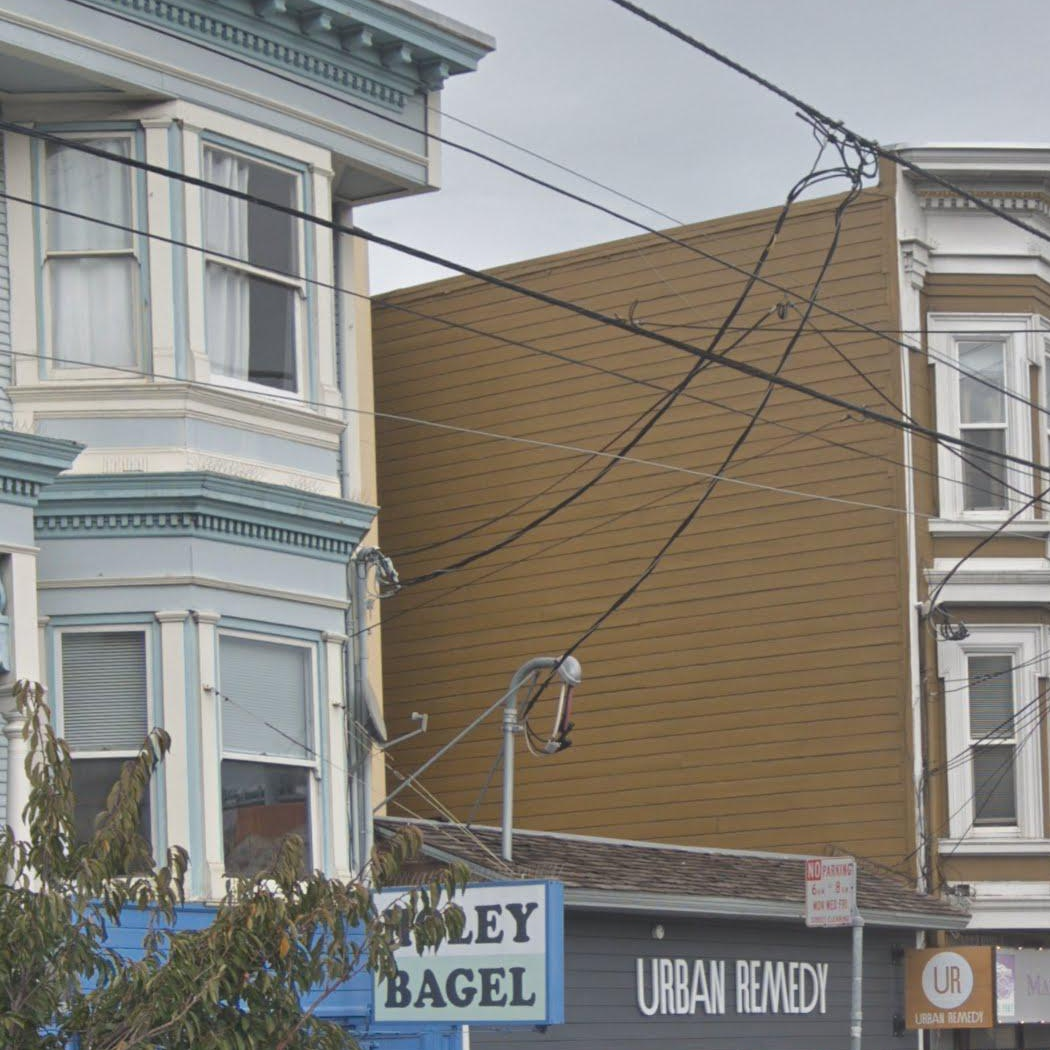No Parking: (802, 855, 858, 928)
